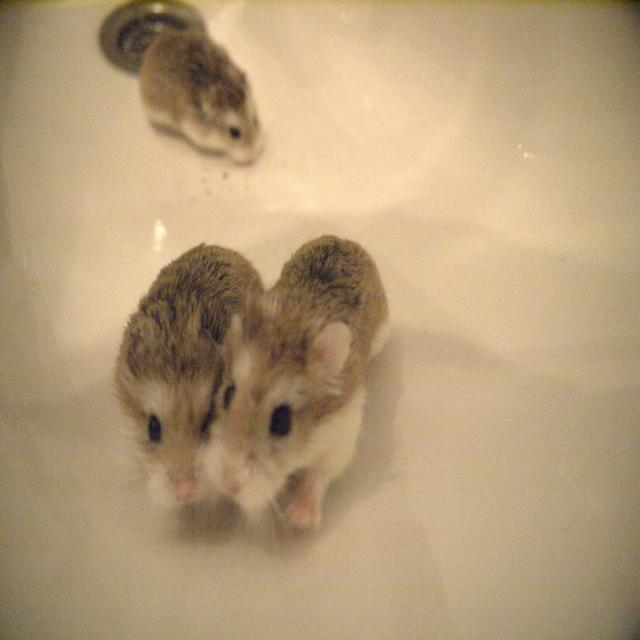rat: (204, 233, 393, 535), (111, 243, 267, 507), (139, 28, 264, 167)
